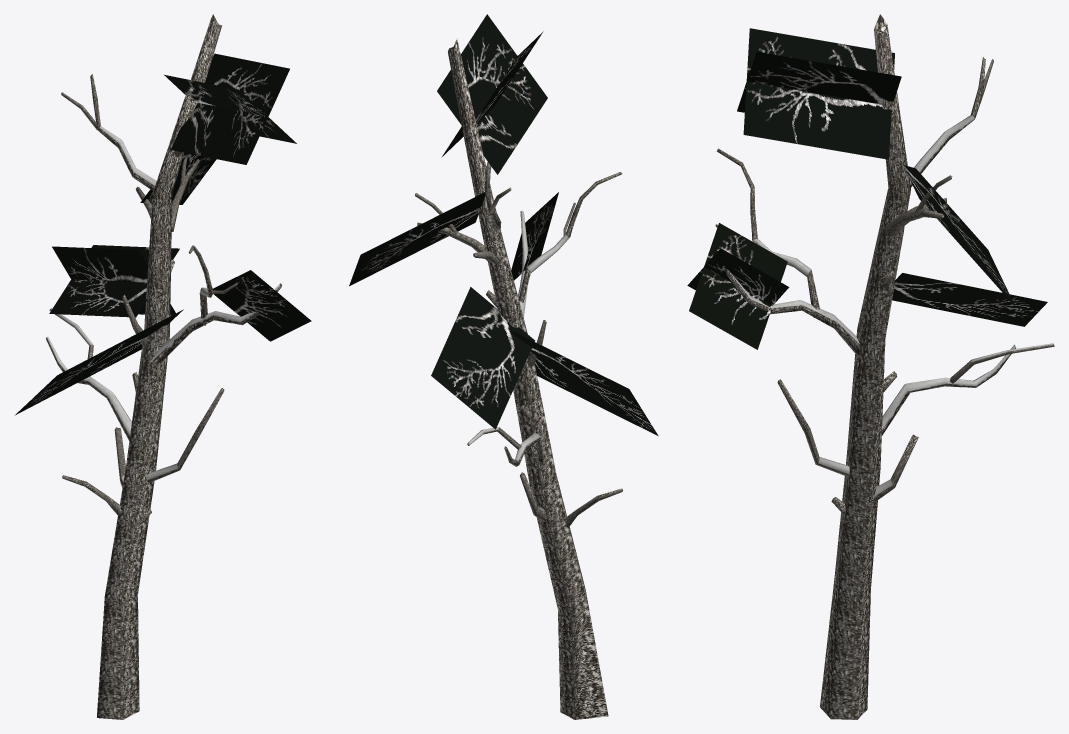
File: tree_goth_dead_sm_snow.fbx
3 renders of one model, left to right at view 1: azimuth 30°, elevation 25°; view 2: azimuth 150°, elevation 25°; view 3: azimuth 270°, elevation 25°, orthographic. The views are drawn at different scales.
Visible parts, largest first — view 1: mesh_0, mesh_1, mesh_2; view 2: mesh_1, mesh_0, mesh_2; view 3: mesh_1, mesh_0, mesh_2.
Part boxes in pixels (left/top/right/bottom): mesh_0: left=46, top=14, right=281, bottom=719; mesh_1: left=15, top=53, right=311, bottom=415; mesh_2: left=47, top=126, right=279, bottom=481; mesh_1: left=349, top=14, right=658, bottom=435; mesh_0: left=415, top=38, right=622, bottom=719; mesh_2: left=468, top=210, right=569, bottom=511; mesh_1: left=687, top=28, right=1047, bottom=349; mesh_0: left=715, top=14, right=1054, bottom=719; mesh_2: left=728, top=115, right=1053, bottom=496.
Bounding box in the file's own units: 408 × 996 × 437.
3 materials, 3 textured.
